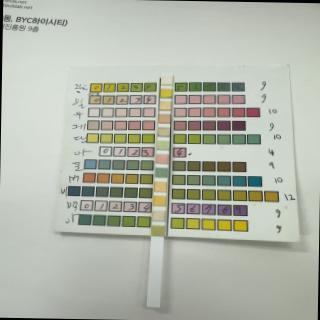mark: (152, 225, 166, 236), (152, 212, 166, 222), (156, 154, 169, 164), (155, 168, 168, 178), (154, 182, 167, 192), (153, 196, 166, 206), (160, 88, 172, 98), (158, 127, 170, 137), (158, 114, 170, 124), (157, 141, 170, 150), (160, 102, 172, 110), (161, 77, 173, 85)
